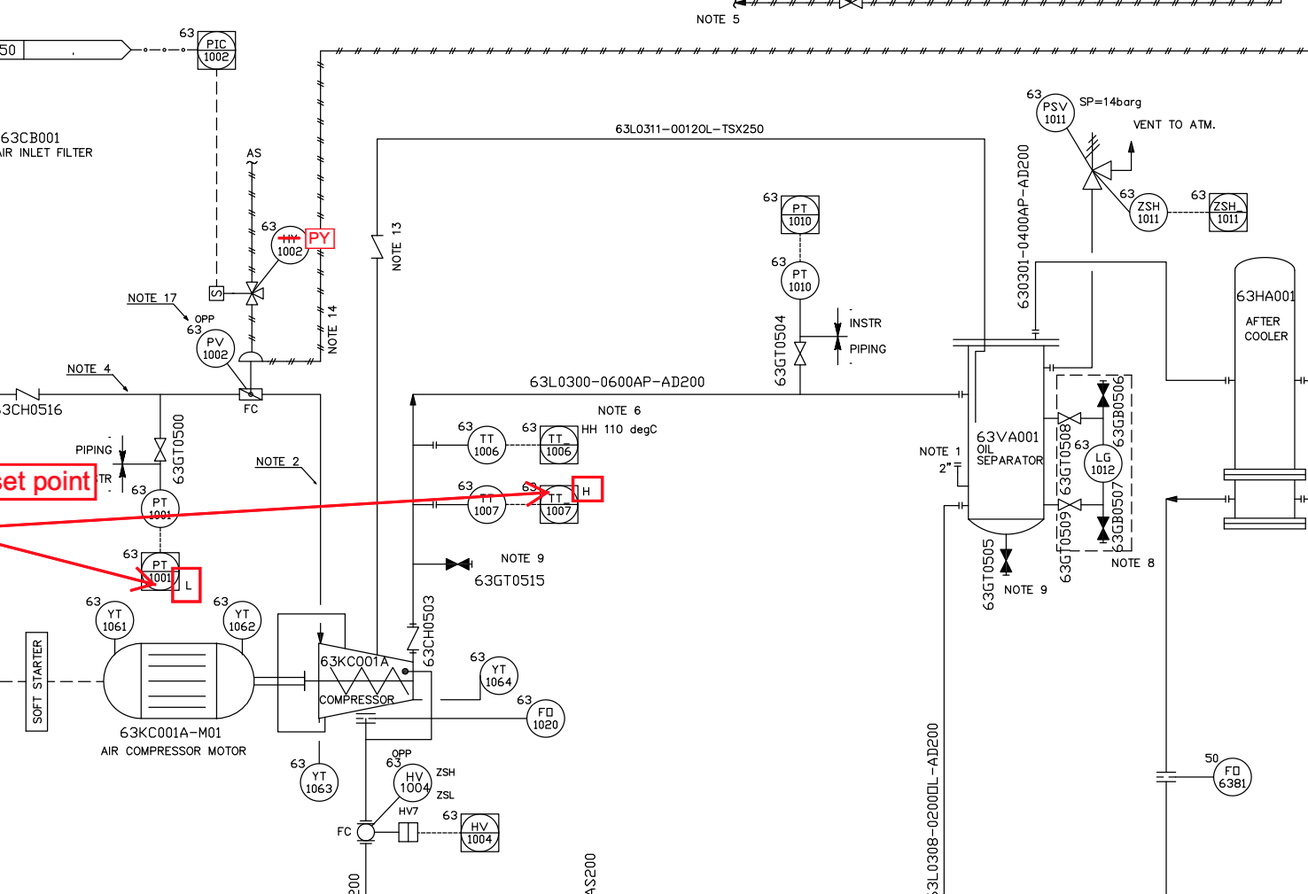Instrument: (1116, 183, 1174, 235), (1024, 80, 1077, 136), (287, 753, 343, 806), (452, 421, 511, 470), (772, 250, 826, 303), (206, 592, 264, 640), (81, 594, 139, 642), (375, 758, 434, 805), (1072, 437, 1125, 486), (514, 693, 567, 742), (187, 321, 237, 369), (469, 649, 519, 694)
Instrument-square: (173, 19, 245, 77), (1187, 182, 1258, 238), (758, 183, 825, 237), (520, 419, 581, 468)
